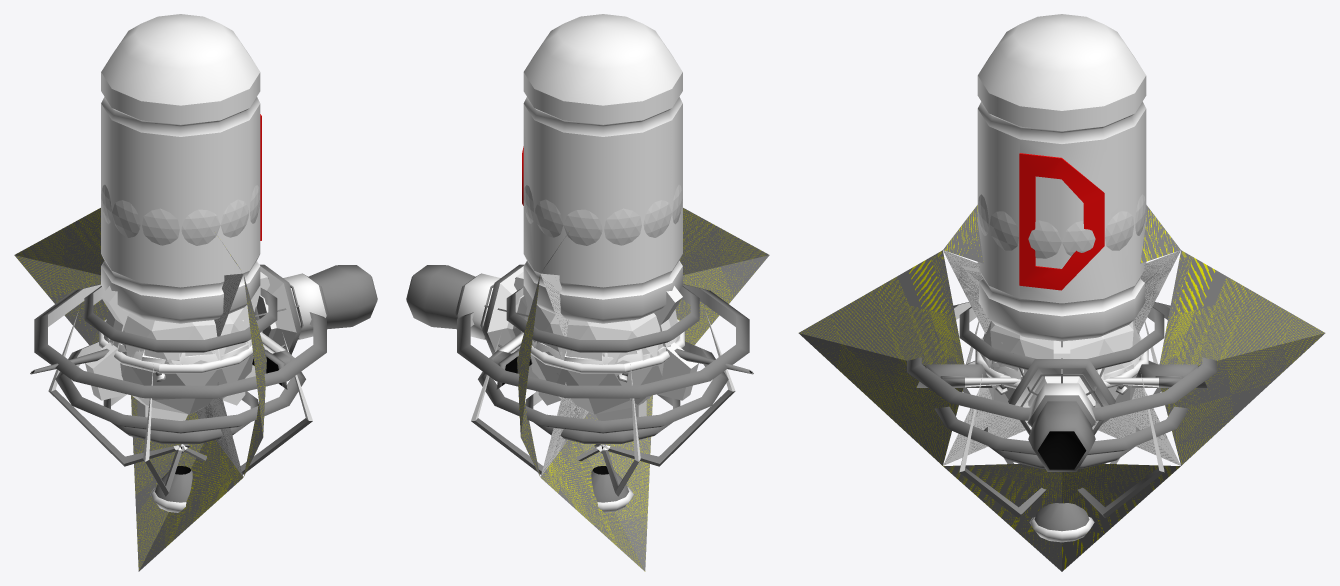
The picture shows the model from 3 angles, left to right: view 1: azimuth 30°, elevation 25°; view 2: azimuth 150°, elevation 25°; view 3: azimuth 270°, elevation 25°; orthographic projection. The views are drawn at different scales.
Visible parts, largest first — view 1: 500TON, solSail, CelestialEngine, Icosphere.001, tempForSomeScales, arcCannon, gasVent, miningRigCog, asteroSyphon; view 2: 500TON, solSail, CelestialEngine, Icosphere.001, tempForSomeScales, arcCannon, gasVent, miningRigCog, asteroSyphon; view 3: solSail, 500TON, CelestialEngine, gasVent, tempForSomeScales, Icosphere.001, arcCannon, asteroSyphon.
Boxes of the visible parts, x1,y1,x2,y2 form: 500TON: [101, 14, 261, 364]; solSail: [14, 208, 377, 571]; CelestialEngine: [34, 284, 326, 512]; Icosphere.001: [104, 305, 253, 414]; tempForSomeScales: [101, 184, 259, 245]; arcCannon: [48, 311, 312, 496]; gasVent: [30, 264, 301, 389]; miningRigCog: [85, 272, 269, 420]; asteroSyphon: [99, 319, 262, 382]; 500TON: [522, 14, 682, 364]; solSail: [406, 208, 769, 571]; CelestialEngine: [457, 284, 749, 512]; Icosphere.001: [530, 305, 679, 414]; tempForSomeScales: [524, 184, 682, 245]; arcCannon: [471, 311, 735, 496]; gasVent: [482, 264, 753, 389]; miningRigCog: [514, 272, 698, 420]; asteroSyphon: [521, 319, 684, 382]; solSail: [798, 205, 1325, 571]; 500TON: [977, 14, 1146, 380]; CelestialEngine: [907, 302, 1216, 542]; gasVent: [916, 359, 1207, 434]; tempForSomeScales: [977, 194, 1146, 258]; Icosphere.001: [983, 321, 1140, 424]; arcCannon: [959, 321, 1164, 518]; asteroSyphon: [975, 337, 1148, 394].
Size of the model in its own units: 487 by 744 by 626.
